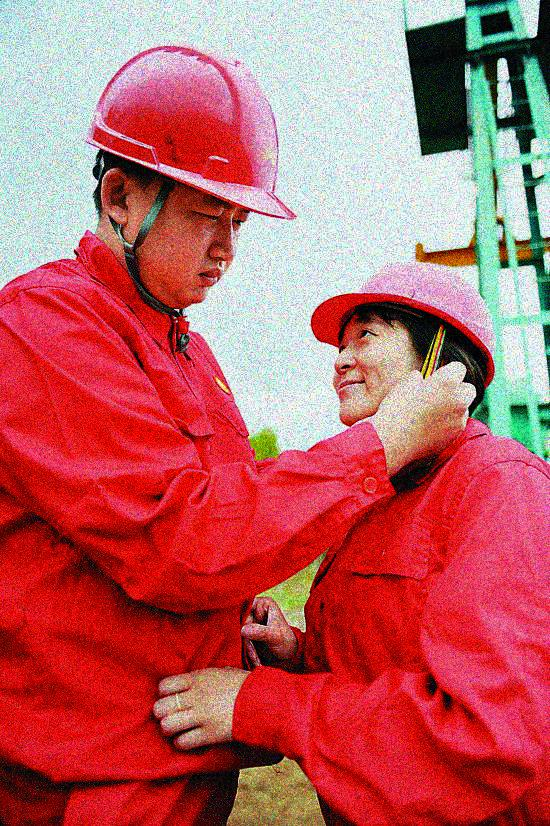helmet: (80, 39, 298, 308), (309, 256, 498, 429)
